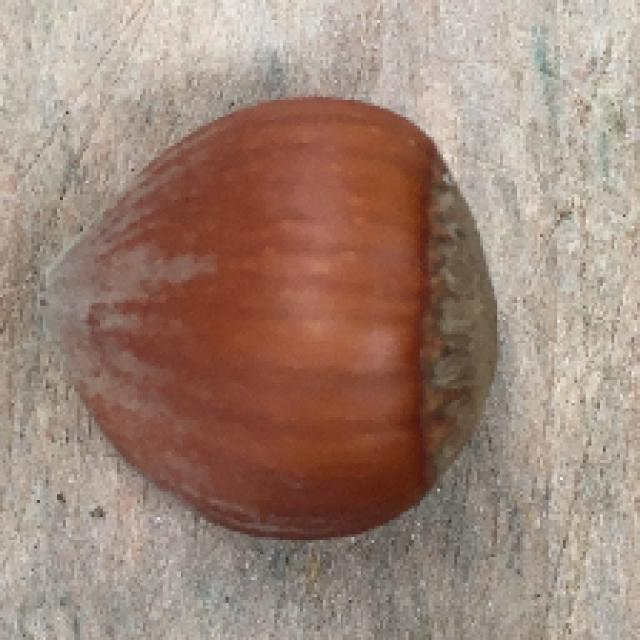QualityHazelnut: (42, 94, 502, 543)
